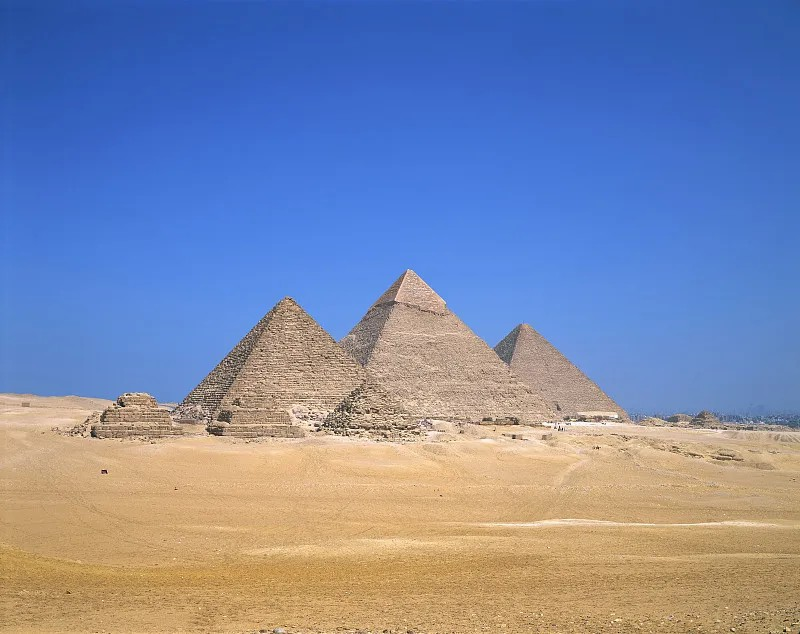Pyramid: (340, 268, 554, 419), (169, 296, 415, 420), (494, 322, 628, 417), (322, 380, 423, 437), (208, 388, 305, 439), (87, 394, 183, 435)
